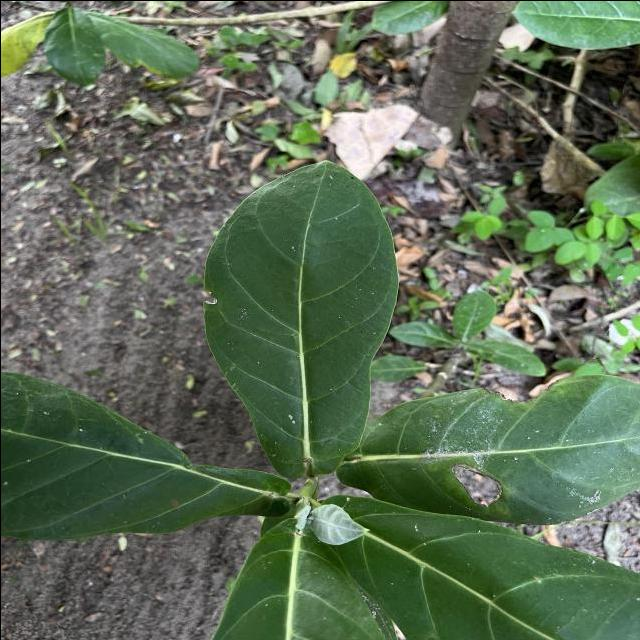Calotropis gigantea: (198, 155, 400, 482), (0, 370, 295, 541), (319, 490, 636, 640), (345, 372, 640, 528)
